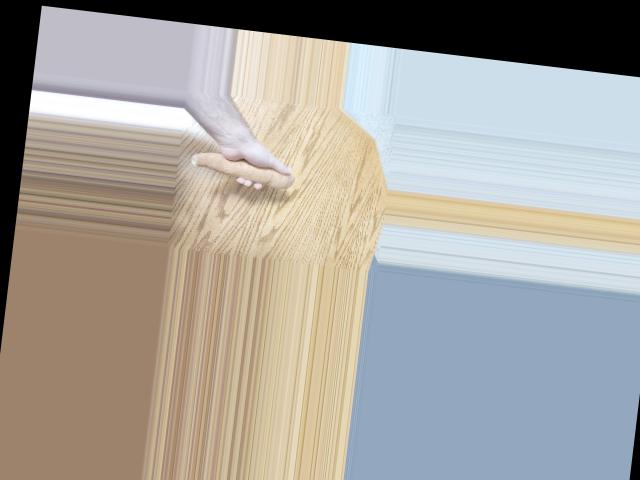sweet_potato: (189, 147, 294, 194)
